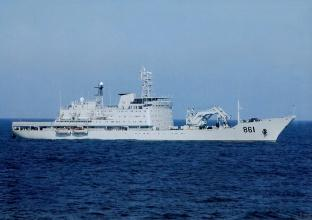warship: (2, 68, 305, 141)
